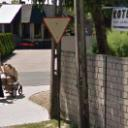preferencia: (42, 14, 72, 44)
